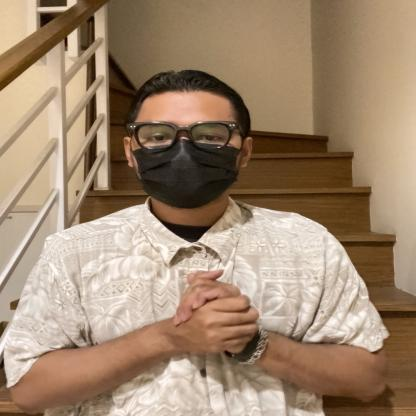Grieve: (89, 249, 378, 377)
